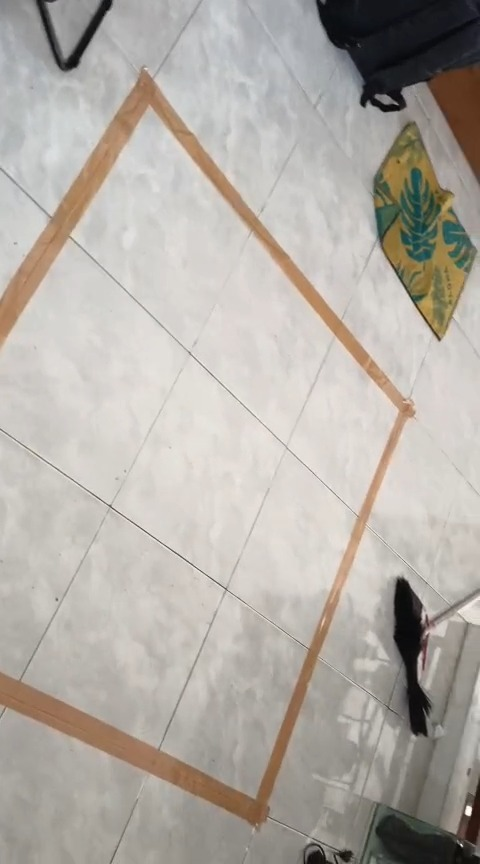floor marking: (0, 71, 413, 825)
